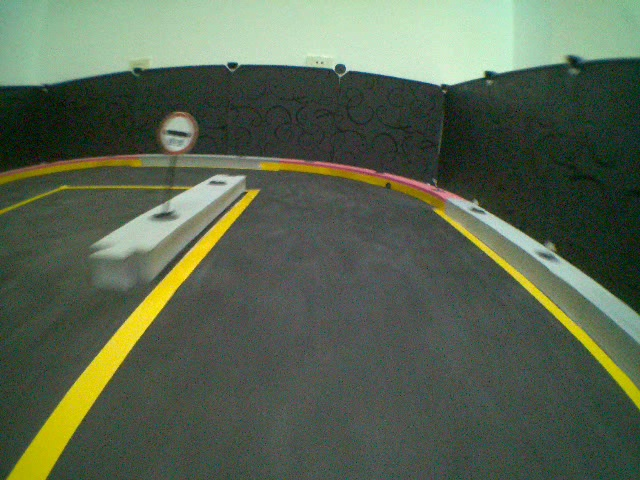Check: (156, 110, 200, 155)
